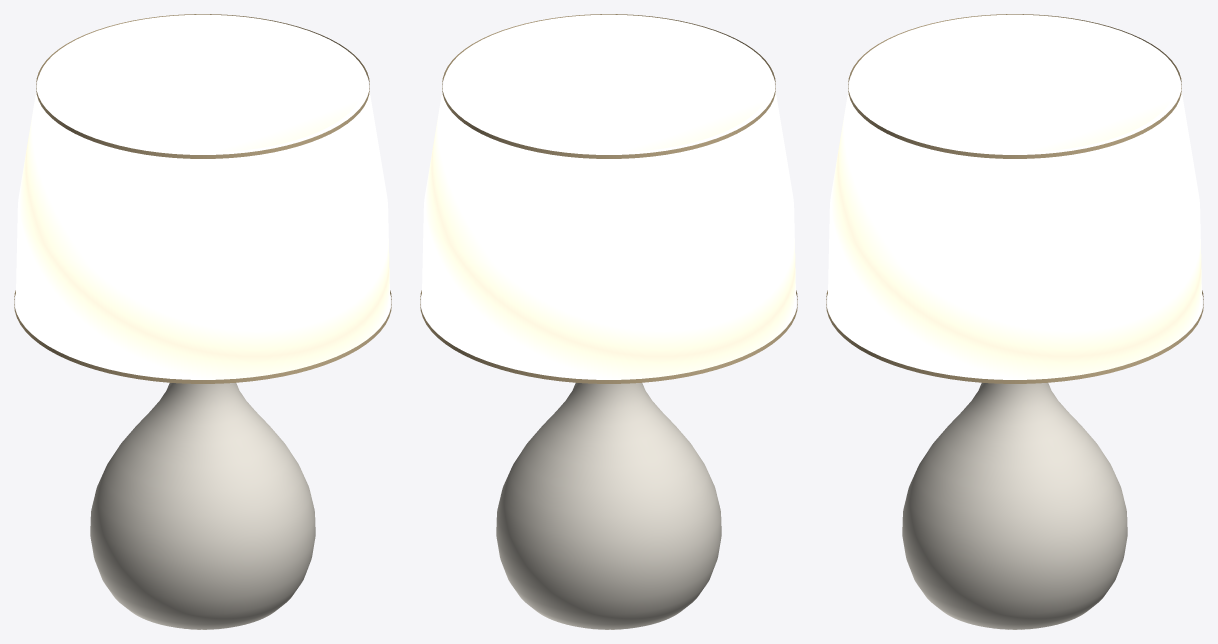
3 views of the same model, side by side, from view 1: azimuth 30°, elevation 25°; view 2: azimuth 150°, elevation 25°; view 3: azimuth 270°, elevation 25° (orthographic).
Visible parts, largest first — view 1: table-lamp-01; view 2: table-lamp-01; view 3: table-lamp-01.
Part boxes in pixels (bbox=[...]): table-lamp-01: bbox=[14, 14, 391, 629]; table-lamp-01: bbox=[420, 14, 797, 629]; table-lamp-01: bbox=[826, 14, 1203, 629].
Bounding box in the file's own units: 0.343 × 0.5199 × 0.343.
